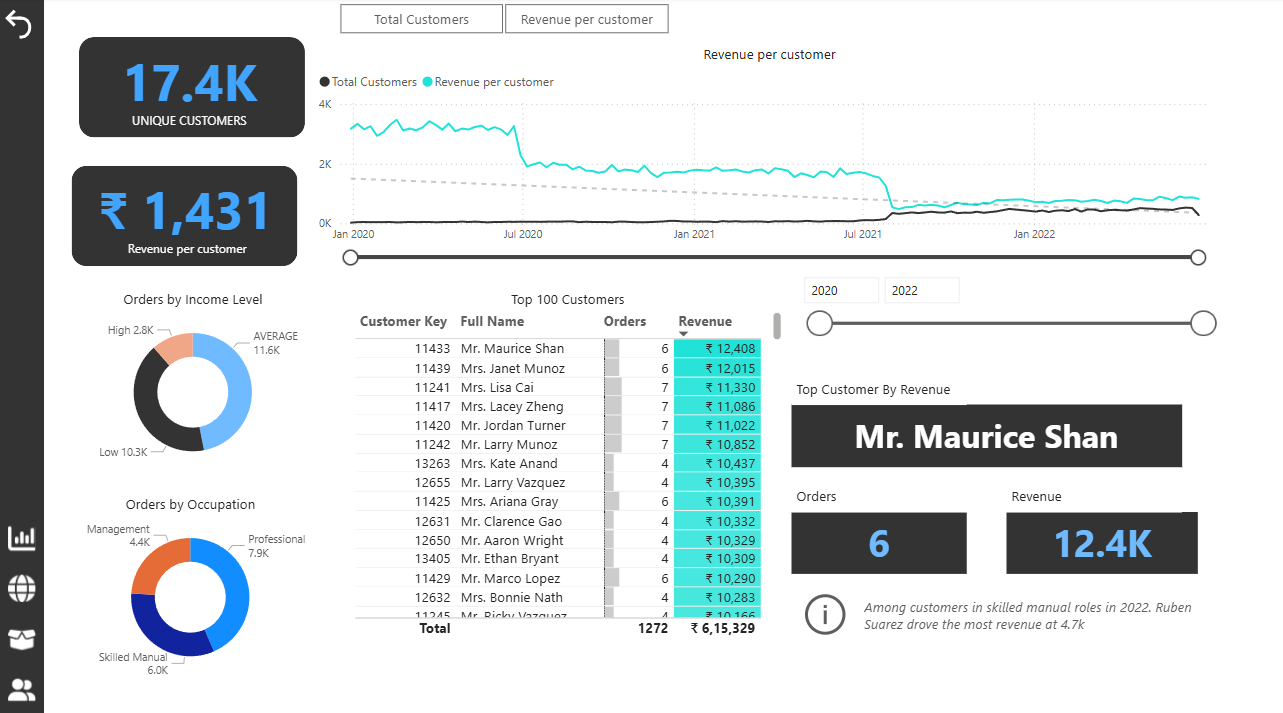

This screenshot's page, from the dashboard's own definition file:
{"tool":"powerbi","page":{"name":"Customer Detail","canvas":[1280,720],"ordinal":3},"visuals":[{"type":"shape","box":[0,0,45,720],"z":0},{"type":"actionButton","box":[4.4,518.9,35.6,40],"z":0,"group":"g1"},{"type":"shape","box":[72.5,168.3,225,100],"z":1000},{"type":"actionButton","box":[4.4,619.6,35.6,40],"z":1000,"group":"g1"},{"type":"card","fields":{"Values":["Measure Table.Average Revenue per customer"]},"box":[72.5,145.8,227.5,145],"z":2000},{"type":"actionButton","box":[4.4,670,35.6,40],"z":2000,"group":"g1"},{"type":"shape","box":[79.2,40,225,100],"z":3000},{"type":"actionButton","box":[4.4,569.3,35.6,40],"z":3000,"group":"g1"},{"type":"card","fields":{"Values":["Measure Table.Total Customers"]},"box":[75.8,17.5,227.5,145],"z":4000},{"type":"lineChart","fields":{"Category":["Calendar Lookup.Date Hierarchy.Start of Year","Calendar Lookup.Date Hierarchy.Start of Month","Calendar Lookup.Date Hierarchy.Start of Quarter","Calendar Lookup.Date Hierarchy.Start of Week","Calendar Lookup.Date Hierarchy.Date"],"Y":["Measure Table.Total Customers","Measure Table.Average Revenue per customer"]},"box":[313.3,46.7,906.7,222.2],"z":5000},{"type":"donutChart","title":"Orders by Income Level","fields":{"Category":["Customer Lookup.Income Level"],"Y":["Measure Table.Total Orders"]},"box":[71.4,291.4,244.3,187.1],"z":6000},{"type":"donutChart","title":"Orders by Occupation","fields":{"Category":["Customer Lookup.Occupation"],"Y":["Measure Table.Total Orders"]},"box":[68.6,495.7,244.3,187.1],"z":7000},{"type":"tableEx","title":"Top 100 Customers","fields":{"Values":["Customer Lookup.CustomerKey","Customer Lookup.Full Name","Measure Table.Total Orders","Measure Table.Total Revenue"]},"box":[348.6,291.4,435.7,350],"z":8000},{"type":"card","fields":{"Values":["Measure Table.Full Name  (Customer Detail)"]},"box":[788.6,405.7,388.6,62],"z":9000},{"type":"card","fields":{"Values":["Measure Table.Total Orders (Customer Detail)"]},"box":[788.6,512.9,174.3,61.4],"z":10000},{"type":"card","fields":{"Values":["Measure Table.Total Revenue (Customer Detail)"]},"box":[1002.9,512.9,190,61.4],"z":11000},{"type":"textbox","box":[788.6,375.7,174.3,30],"z":12000},{"type":"textbox","box":[788.6,482.9,174.3,30],"z":13000},{"type":"textbox","box":[1002.9,482.9,174.3,30],"z":14000},{"type":"slicer","fields":{"Values":["Calendar Lookup.Year"]},"box":[788.6,268.6,431.4,107.1],"z":15000},{"type":"actionButton","box":[796.7,588.9,396.7,52.2],"z":16000},{"type":"actionButton","box":[0,7.8,45.6,38.9],"z":17000},{"type":"group","id":"g1","title":"Navigation Buttons","box":[4.4,518.9,35.6,191.1],"z":18000},{"type":"slicer","fields":{"Values":["Customer Metric Selection.Customer Metric Selection"]},"box":[313.3,0,376.7,43.3],"z":18501}]}

Visuals, with their boxes on the page's 1280x720 design canvas (x1, y1, x2, y2). These are canvas units, not pixel positions in the 1283x713 screenshot, which may show the page scaled, cropped or inside an application window:
shape: {"x1": 0, "y1": 0, "x2": 45, "y2": 720}
actionButton: {"x1": 4, "y1": 519, "x2": 40, "y2": 559}
shape: {"x1": 72, "y1": 168, "x2": 298, "y2": 268}
actionButton: {"x1": 4, "y1": 620, "x2": 40, "y2": 660}
card - Measure Table.Average Revenue per customer: {"x1": 72, "y1": 146, "x2": 300, "y2": 291}
actionButton: {"x1": 4, "y1": 670, "x2": 40, "y2": 710}
shape: {"x1": 79, "y1": 40, "x2": 304, "y2": 140}
actionButton: {"x1": 4, "y1": 569, "x2": 40, "y2": 609}
card - Measure Table.Total Customers: {"x1": 76, "y1": 18, "x2": 303, "y2": 162}
lineChart - Calendar Lookup.Date Hierarchy.Start of Year x Calendar Lookup.Date Hierarchy.Start of Month: {"x1": 313, "y1": 47, "x2": 1220, "y2": 269}
"Orders by Income Level" donutChart: {"x1": 71, "y1": 291, "x2": 316, "y2": 478}
"Orders by Occupation" donutChart: {"x1": 69, "y1": 496, "x2": 313, "y2": 683}
"Top 100 Customers" tableEx: {"x1": 349, "y1": 291, "x2": 784, "y2": 641}
card - Measure Table.Full Name  (Customer Detail): {"x1": 789, "y1": 406, "x2": 1177, "y2": 468}
card - Measure Table.Total Orders (Customer Detail): {"x1": 789, "y1": 513, "x2": 963, "y2": 574}
card - Measure Table.Total Revenue (Customer Detail): {"x1": 1003, "y1": 513, "x2": 1193, "y2": 574}
textbox: {"x1": 789, "y1": 376, "x2": 963, "y2": 406}
textbox: {"x1": 789, "y1": 483, "x2": 963, "y2": 513}
textbox: {"x1": 1003, "y1": 483, "x2": 1177, "y2": 513}
slicer - Calendar Lookup.Year: {"x1": 789, "y1": 269, "x2": 1220, "y2": 376}
actionButton: {"x1": 797, "y1": 589, "x2": 1193, "y2": 641}
actionButton: {"x1": 0, "y1": 8, "x2": 46, "y2": 47}
"Navigation Buttons" group: {"x1": 4, "y1": 519, "x2": 40, "y2": 710}
slicer - Customer Metric Selection.Customer Metric Selection: {"x1": 313, "y1": 0, "x2": 690, "y2": 43}
